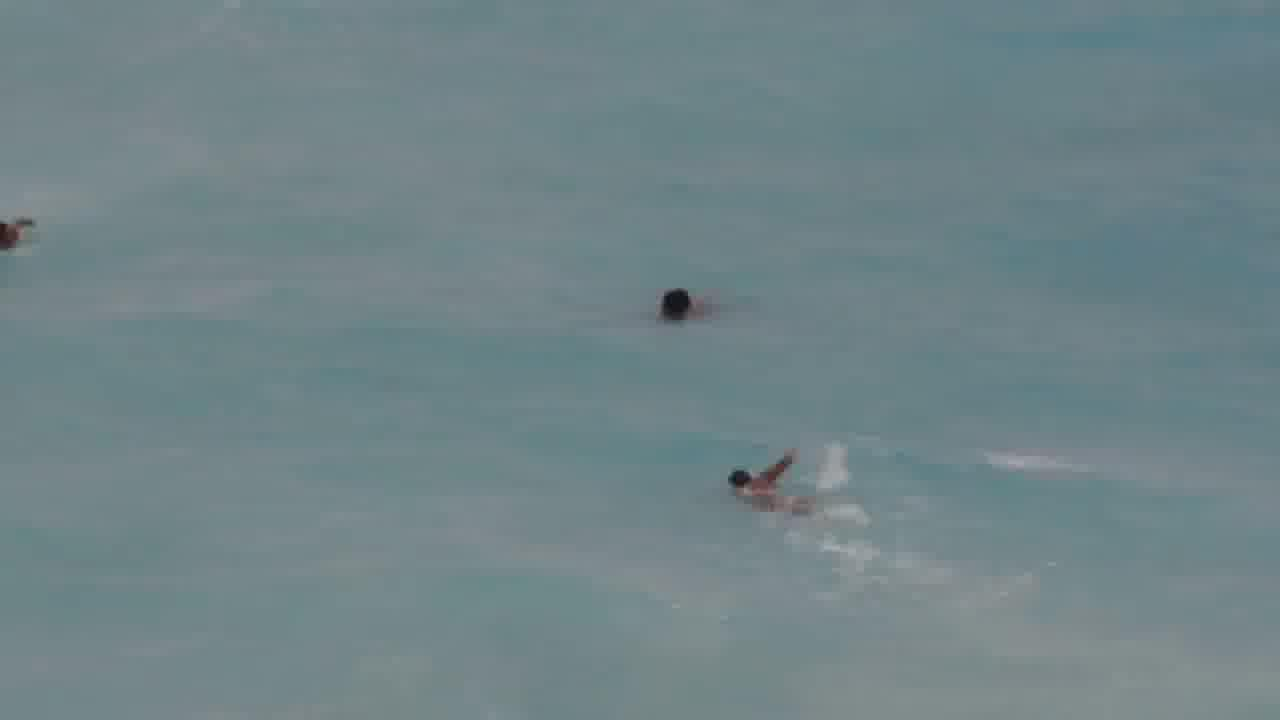swimmer: (711, 445, 812, 513), (644, 280, 725, 328), (0, 204, 46, 248)
